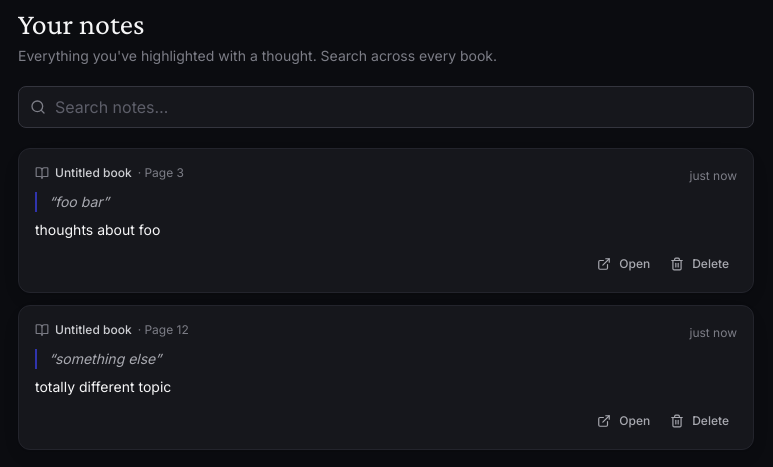
Test: <NotesPage /> › shows a no-match empty state when filtered to nothing
Type "zzzzzz" into the search field with placeholder "Search notes…". click: (386, 107)
box: [18, 86, 754, 128]
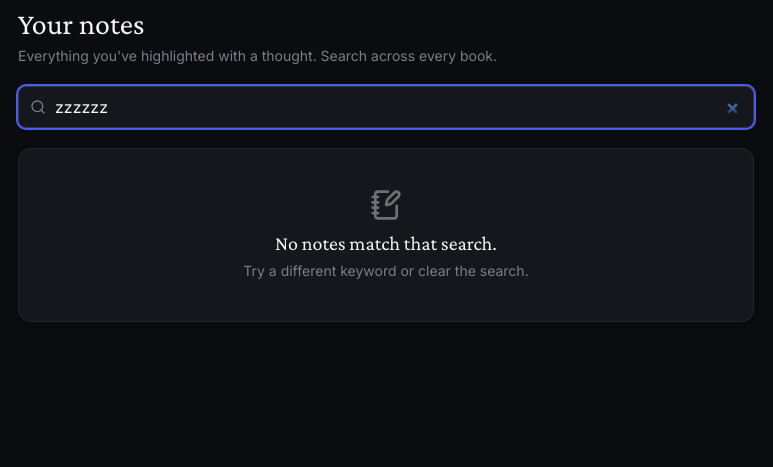
Check: the heading "No notes match that search." is shown, box [275, 232, 497, 254]
